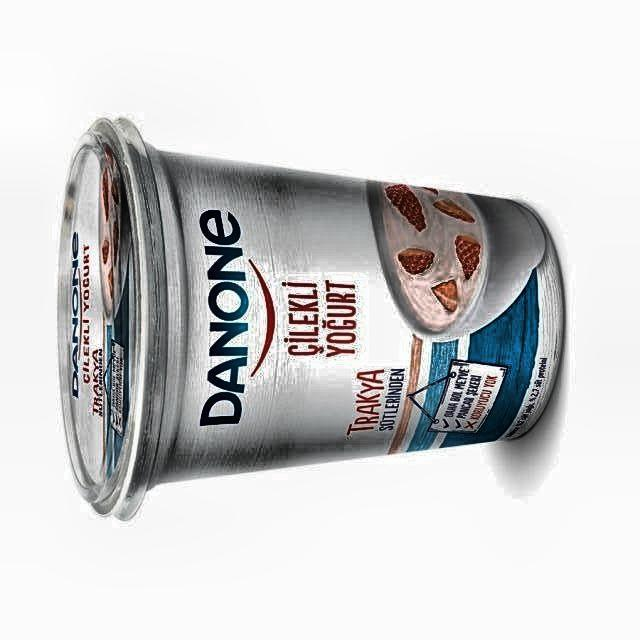plastic: (59, 120, 565, 518)
